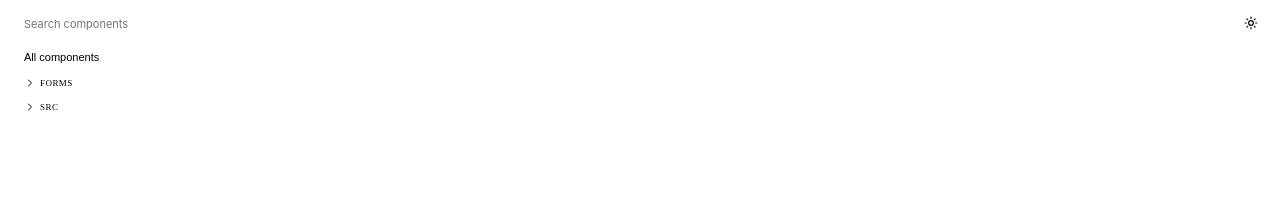
Test case: ComponentSidebar › renders all components after expanding their groups
Step 1. Click the button "src" → (30, 107), box [16,95,1264,115]
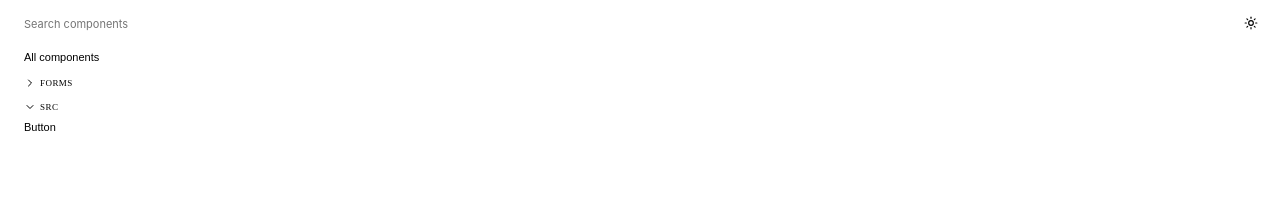
Step 2. Click the button "forms" → (56, 83), box [16,71,1264,91]
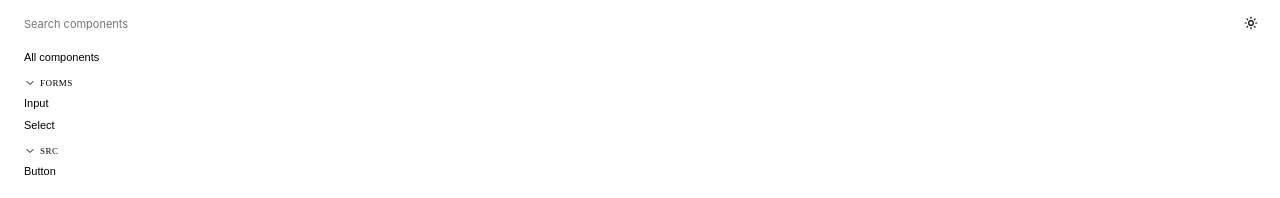
Expected: the button "Button" is shown, [16,161,1264,181]
Expected: the button "Input" is shown, [16,93,1264,113]
Expected: the button "Select" is shown, [16,115,1264,135]
